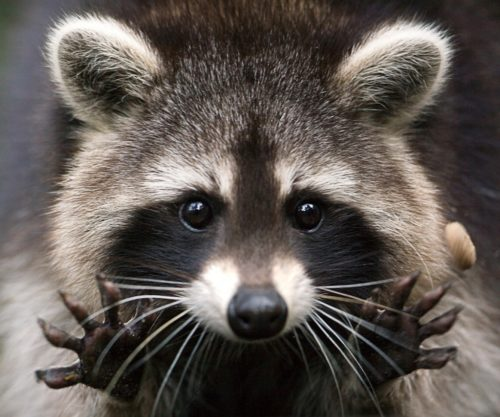raccoon: (30, 6, 494, 417)
